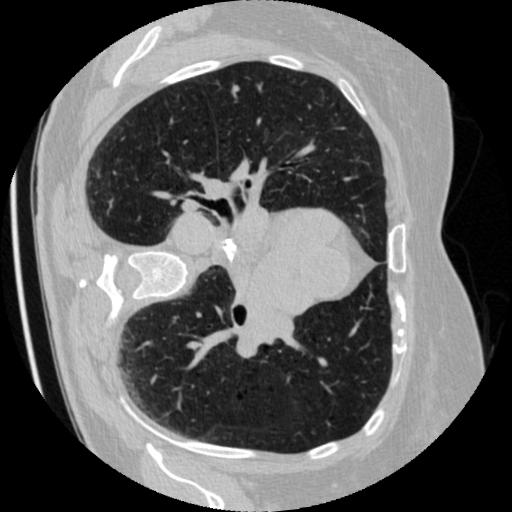nodule: (231, 85, 244, 98)
